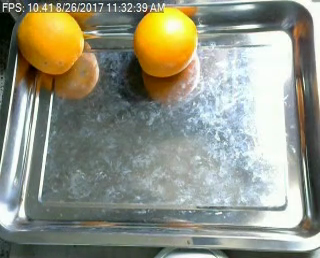Orange: (16, 6, 86, 76), (133, 9, 198, 78)
